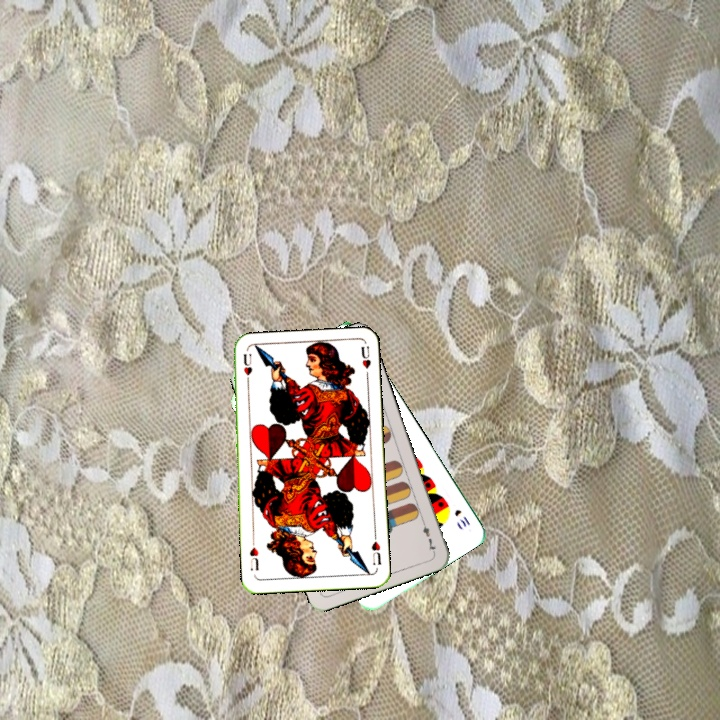E7: (418, 515, 438, 555)
HU: (367, 530, 384, 568), (239, 350, 254, 389)
S10: (450, 505, 473, 530)
